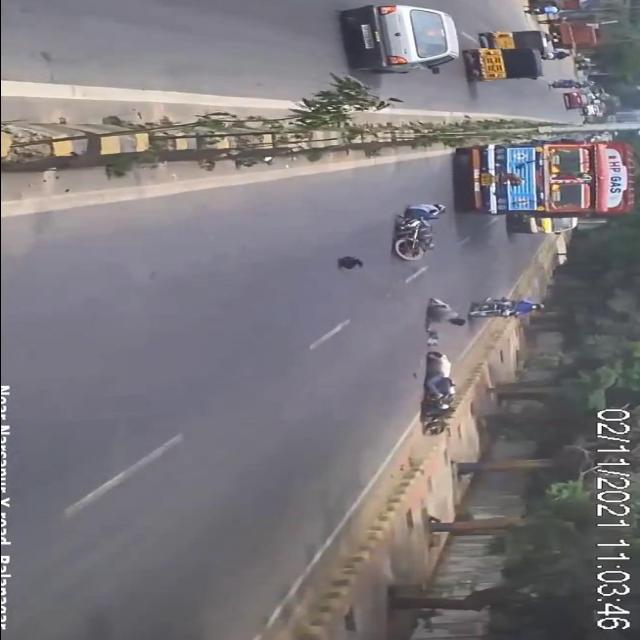accident: (406, 292, 472, 446), (376, 201, 454, 263)
non_accident: (453, 136, 640, 236), (456, 25, 555, 83), (555, 89, 615, 119)
